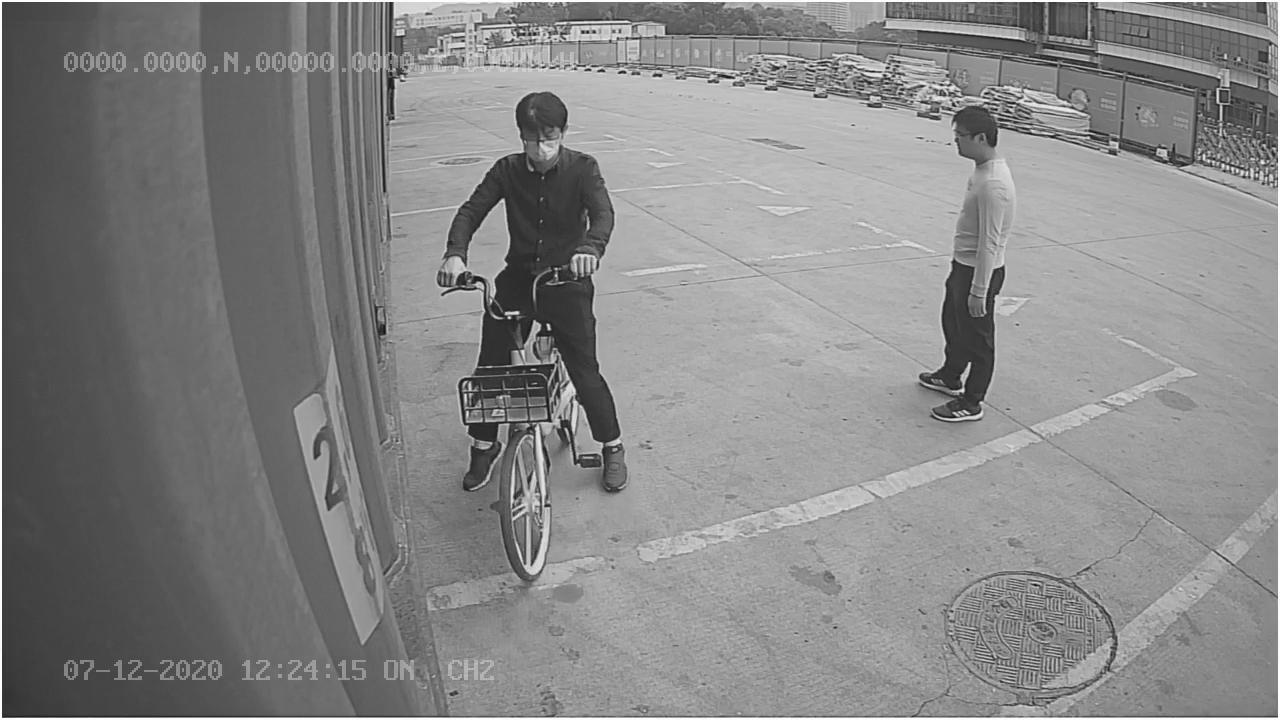person: (912, 101, 1020, 421)
